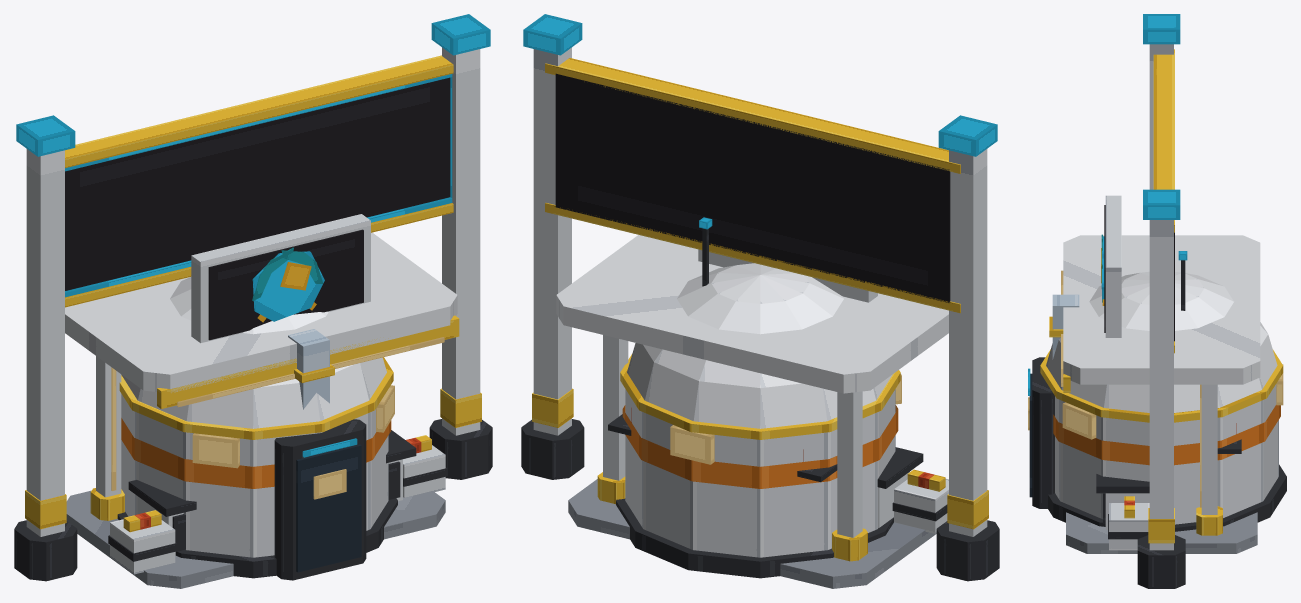
The model's file is cryo-props.glb.
The picture shows the model from 3 angles, left to right: view 1: azimuth 30°, elevation 25°; view 2: azimuth 150°, elevation 25°; view 3: azimuth 270°, elevation 25°; orthographic projection. The views are drawn at different scales.
Parts seen in each view (by area): view 1: Board, Roof, Upright, Drum, Upright.001, Dome, BoardTrim, Screen, Door, DoorFrame, Deck, ScreenBack (+27 smaller); view 2: Board, Roof, Drum, Dome, Upright, Upright.001, BoardTrim, Deck, Band.001, Plinth, BoardTrimLow, Post (+16 smaller); view 3: Roof, Drum, Dome, Upright.001, Deck, Band.001, BoardTrim, DoorFrame, DomeRim, ScreenBack, Post.001, UprightFoot.001 (+12 smaller).
Part boxes in pixels (left/top/right/bottom): Board: left=65, top=77, right=450, bottom=290; Roof: left=65, top=232, right=457, bottom=392; Upright: left=26, top=149, right=64, bottom=536; Drum: left=121, top=394, right=388, bottom=557; Upright.001: left=442, top=47, right=480, bottom=435; Dome: left=121, top=277, right=386, bottom=428; BoardTrim: left=65, top=55, right=453, bottom=167; Screen: left=208, top=229, right=363, bottom=340; Door: left=296, top=444, right=361, bottom=572; DoorFrame: left=274, top=419, right=366, bottom=580; Deck: left=66, top=490, right=445, bottom=588; ScreenBack: left=191, top=214, right=370, bottom=343; Board: left=555, top=73, right=950, bottom=302; Roof: left=556, top=235, right=948, bottom=393; Drum: left=625, top=389, right=895, bottom=557; Dome: left=627, top=263, right=892, bottom=428; Upright: left=949, top=149, right=987, bottom=536; Upright.001: left=533, top=47, right=571, bottom=435; BoardTrim: left=545, top=58, right=960, bottom=173; Deck: left=568, top=479, right=936, bottom=588; Band.001: left=622, top=405, right=898, bottom=488; Plinth: left=616, top=498, right=893, bottom=578; BoardTrimLow: left=545, top=203, right=960, bottom=313; Post: left=837, top=391, right=862, bottom=537; Roof: left=1063, top=235, right=1260, bottom=384; Drum: left=1055, top=384, right=1278, bottom=524; Dome: left=1046, top=271, right=1277, bottom=412; Upright.001: left=1149, top=220, right=1173, bottom=550; Deck: left=1066, top=512, right=1257, bottom=553; Band.001: left=1053, top=405, right=1280, bottom=465; BoardTrim: left=1153, top=49, right=1174, bottom=232; DoorFrame: left=1032, top=357, right=1054, bottom=508; DomeRim: left=1040, top=349, right=1283, bottom=422; ScreenBack: left=1105, top=195, right=1121, bottom=337; Post.001: left=1201, top=384, right=1217, bottom=514; UprightFoot.001: left=1137, top=535, right=1185, bottom=588.
Size of the model in its own units: 8.7 by 8.2 by 4.86.
2 materials, 2 textured.
